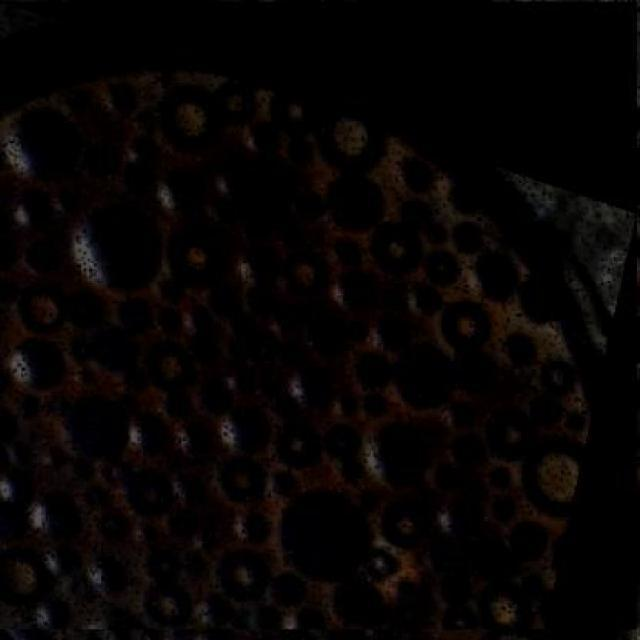Manhole: (1, 2, 638, 630)
